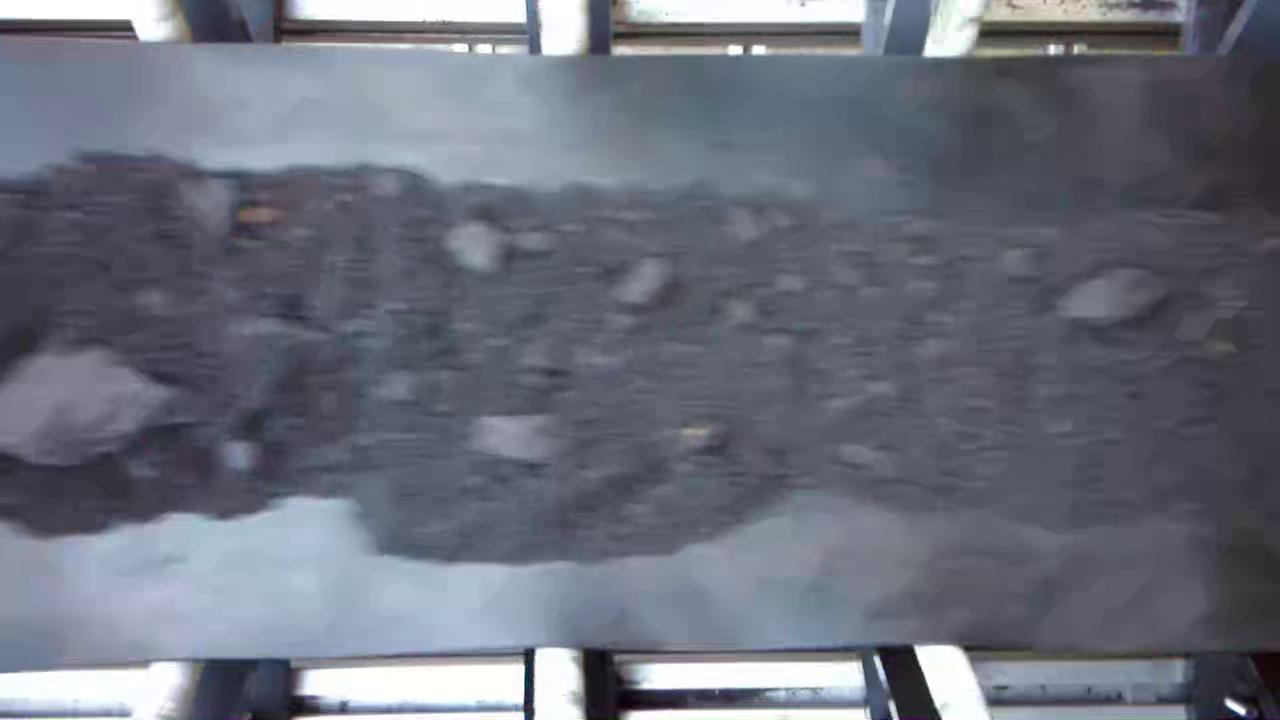conveyor: (1, 57, 1279, 640)
